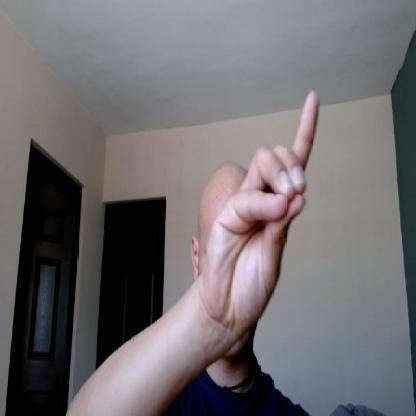D: (202, 87, 321, 330)
